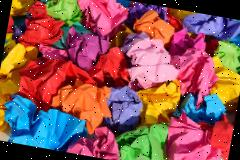paper: (71, 0, 131, 40)
